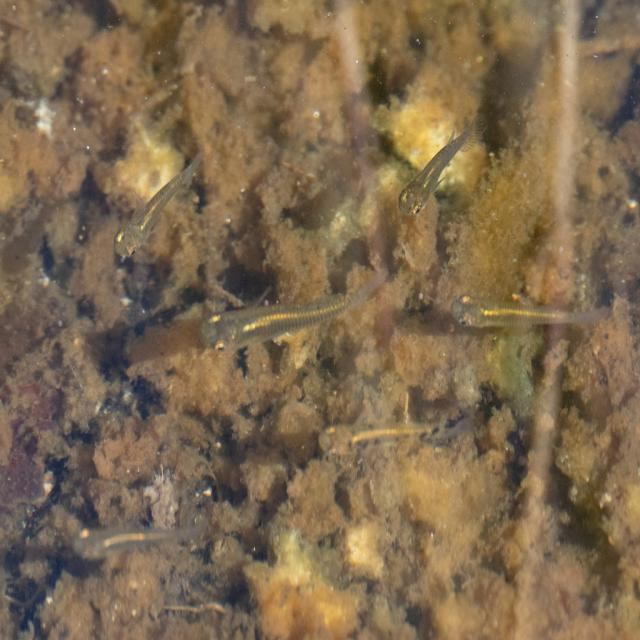Sivrisinek Baligi: (198, 264, 390, 354), (330, 383, 501, 466), (103, 147, 217, 265), (395, 110, 491, 218), (450, 276, 609, 339)
